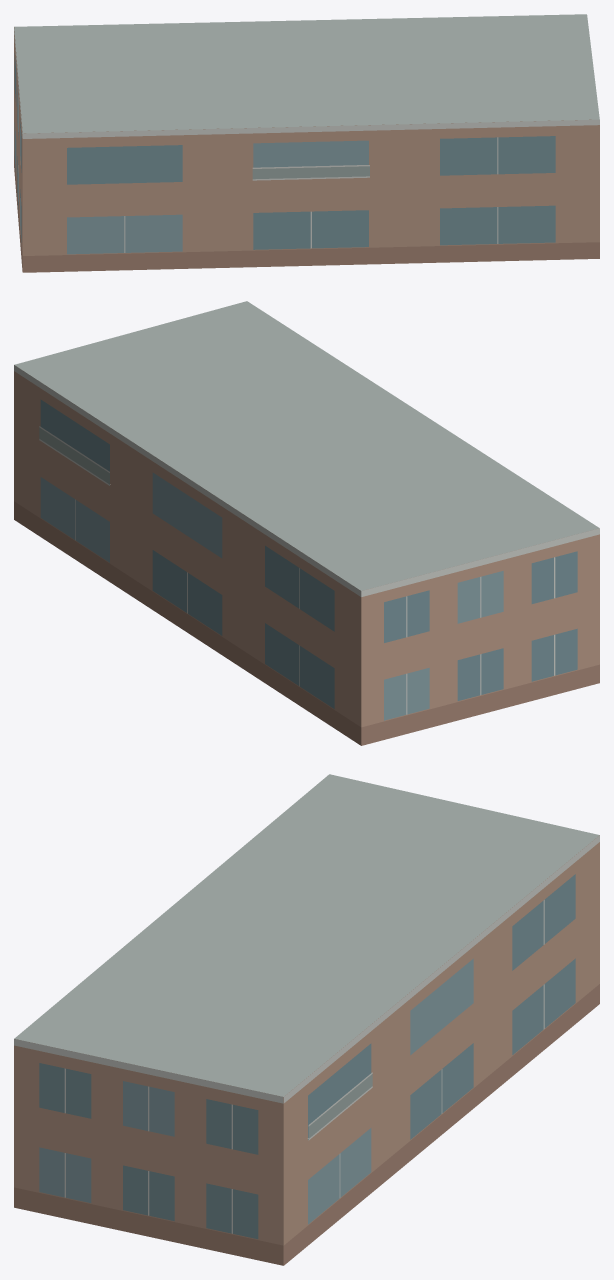
The model's file is survey-upis-32518642.glb.
3 renders of one model, top to bottom at view 1: azimuth 30°, elevation 25°; view 2: azimuth 150°, elevation 25°; view 3: azimuth 270°, elevation 25°, orthographic. The views are drawn at different scales.
Parts seen in each view (by area): view 1: survey-upis-32518642.tmp; view 2: survey-upis-32518642.tmp; view 3: survey-upis-32518642.tmp.
Boxes of the visible parts, x1,y1,x2,y2 form: survey-upis-32518642.tmp: [14, 14, 599, 272]; survey-upis-32518642.tmp: [14, 301, 599, 745]; survey-upis-32518642.tmp: [14, 774, 599, 1265].
Size of the model in its own units: 25.02 by 6.1 by 19.19.
